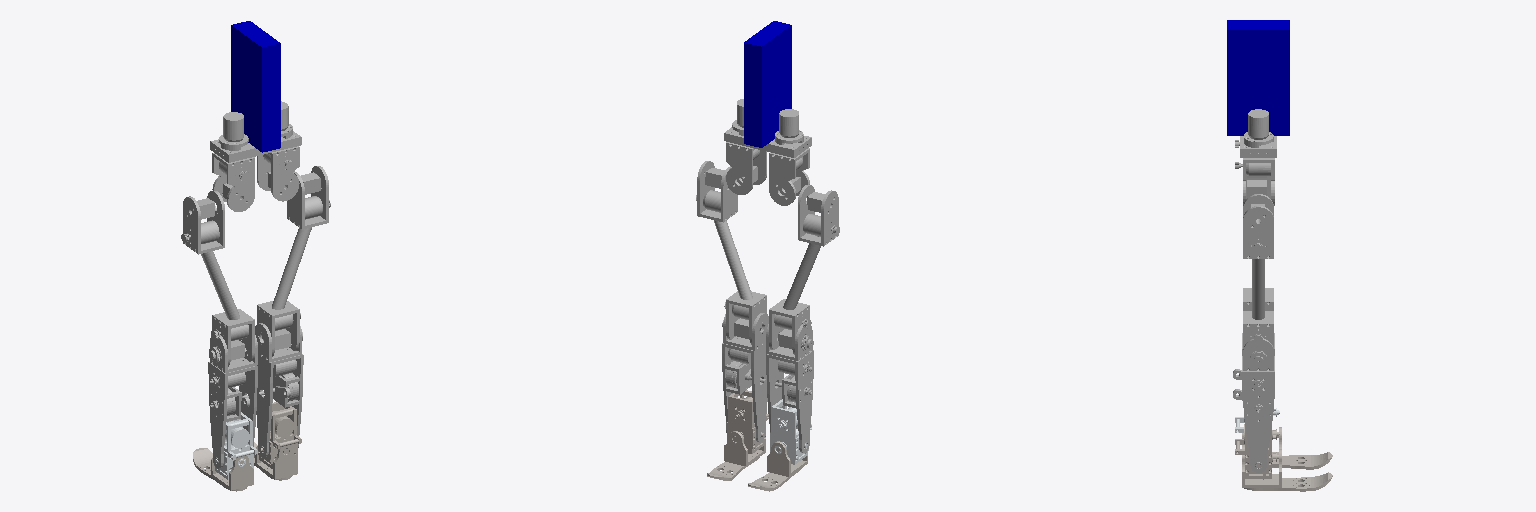
--- Render facts (derived) ---
The picture shows the robot from 3 angles, left to right: view 1: azimuth 30°, elevation 25°; view 2: azimuth 150°, elevation 25°; view 3: azimuth 270°, elevation 25°; orthographic projection.
Model huron with 28 links and 27 joints (12 revolute, 14 fixed, 1 floating), rooted at world, posed every joint at zero.
Visible links, largest first — view 1: l_hip_pitch_link, r_hip_pitch_link, l_knee_pitch_link, upper_body_link, r_knee_pitch_link, base_footprint, l_hip_yaw_link, r_hip_yaw_link, battery_link, r_ankle_pitch_link, l_ankle_pitch_link, l_ankle_roll_link (+1 smaller); view 2: l_hip_pitch_link, r_hip_pitch_link, upper_body_link, l_knee_pitch_link, r_knee_pitch_link, base_footprint, l_hip_yaw_link, r_hip_yaw_link, battery_link, r_ankle_pitch_link, l_ankle_pitch_link, r_ankle_roll_link (+1 smaller); view 3: upper_body_link, r_hip_pitch_link, r_knee_pitch_link, battery_link, base_footprint, r_ankle_roll_link, r_hip_yaw_link, l_ankle_roll_link, r_ankle_pitch_link, l_hip_pitch_link.
Link boxes in pixels (<box>): l_hip_pitch_link: <box>181,190,254,366</box>; r_hip_pitch_link: <box>257,166,330,356</box>; l_knee_pitch_link: <box>208,335,257,468</box>; upper_body_link: <box>231,21,280,119</box>; r_knee_pitch_link: <box>255,323,303,456</box>; base_footprint: <box>210,101,301,162</box>; l_hip_yaw_link: <box>212,153,254,211</box>; r_hip_yaw_link: <box>257,146,299,201</box>; battery_link: <box>231,86,280,152</box>; r_ankle_pitch_link: <box>258,402,301,468</box>; l_ankle_pitch_link: <box>214,412,257,479</box>; l_ankle_roll_link: <box>193,448,253,491</box>; l_hip_pitch_link: <box>769,185,839,354</box>; r_hip_pitch_link: <box>696,161,766,344</box>; upper_body_link: <box>744,21,791,118</box>; l_knee_pitch_link: <box>766,324,813,452</box>; r_knee_pitch_link: <box>722,313,768,442</box>; base_footprint: <box>724,99,811,157</box>; l_hip_yaw_link: <box>769,148,809,205</box>; r_hip_yaw_link: <box>726,142,766,194</box>; battery_link: <box>744,84,791,147</box>; r_ankle_pitch_link: <box>727,390,768,453</box>; l_ankle_pitch_link: <box>770,399,811,464</box>; r_ankle_roll_link: <box>707,431,765,480</box>; upper_body_link: <box>1227,20,1289,104</box>; r_hip_pitch_link: <box>1243,194,1273,367</box>; r_knee_pitch_link: <box>1233,338,1274,472</box>; battery_link: <box>1227,90,1289,135</box>; base_footprint: <box>1240,109,1276,157</box>; r_ankle_roll_link: <box>1242,449,1332,491</box>; r_hip_yaw_link: <box>1235,158,1274,205</box>; l_ankle_roll_link: <box>1242,427,1332,469</box>; r_ankle_pitch_link: <box>1235,424,1279,478</box>; l_hip_pitch_link: <box>1243,175,1273,310</box>.
Bounding box of the posed robot: 0.5066 × 0.3158 × 1.49 m (x, y, z).
Meshes: 21 distinct files referenced, 11 mesh visuals loaded (11 binary STL); not drawn: 10 (reference not matched to a file when rendering).

robot.urdf — huron:
<?xml version="1.0" ?>
<!-- =================================================================================== -->
<!-- |    This document was autogenerated by xacro from urdf/huron_cheat.xacro         | -->
<!-- |    EDITING THIS FILE BY HAND IS NOT RECOMMENDED                                 | -->
<!-- =================================================================================== -->
<robot name="huron">
  <material name="black">
    <color rgba="0.0 0.0 0.0 1.0"/>
  </material>
  <material name="blue">
    <color rgba="0.0 0.0 0.8 1.0"/>
  </material>
  <material name="green">
    <color rgba="0.0 0.8 0.0 1.0"/>
  </material>
  <material name="grey">
    <color rgba="0.75294 0.75294 0.75294 1"/>
  </material>
  <material name="orange">
    <color rgba="1.0 0.4235294117647059 0.0392156862745098 1.0"/>
  </material>
  <material name="brown">
    <color rgba="0.8705882352941177 0.8117647058823529 0.7647058823529411 1.0"/>
  </material>
  <material name="red">
    <color rgba="0.8 0.0 0.0 1.0"/>
  </material>
  <material name="white">
    <color rgba="1.0 1.0 1.0 1.0"/>
  </material>
  <!-- Right leg -->
  <!-- Right foot sensors -->
  <!-- ros_control plugin -->
  <gazebo>
    <plugin filename="libgazebo_ros_control.so" name="gazebo_ros_control">
      <robotNamespace>/huron</robotNamespace>
    </plugin>
  </gazebo>
  <gazebo>
    <plugin filename="libgazebo_ros_p3d.so" name="ground_truth">
      <frameName>map</frameName>
      <bodyName>base_link</bodyName>
      <topicName>/huron/odom</topicName>
      <updateRate>100.0</updateRate>
    </plugin>
  </gazebo>
  <!-- imu sensor -->
  <gazebo reference="imu_link">
    <gravity>true</gravity>
    <sensor name="imu_sensor" type="imu">
      <always_on>true</always_on>
      <update_rate>100</update_rate>
      <visualize>true</visualize>
      <topic>/huron/sensor/imu</topic>
      <plugin filename="libgazebo_ros_imu_sensor.so" name="imu_plugin">
        <topicName>huron/sensor/imu</topicName>
        <bodyName>imu_link</bodyName>
        <updateRateHZ>10.0</updateRateHZ>
        <gaussianNoise>0.0</gaussianNoise>
        <xyzOffset>0 0 0</xyzOffset>
        <rpyOffset>0 0 0</rpyOffset>
        <frameName>imu_link</frameName>
      </plugin>
      <pose>0 0 0 0 0 0</pose>
    </sensor>
  </gazebo>
  <gazebo reference="r_ankle_roll_joint">
    <provideFeedback>true</provideFeedback>
  </gazebo>
  <gazebo>
    <plugin filename="libgazebo_ros_ft_sensor.so" name="r1_ft_sensor">
      <updateRate>100.0</updateRate>
      <topicName>/huron/sensor/r1_ft_sensor</topicName>
      <jointName>r_ankle_roll_joint</jointName>
      <gaussianNoise>0.0</gaussianNoise>
    </plugin>
  </gazebo>
  <gazebo reference="l_ankle_roll_joint">
    <provideFeedback>true</provideFeedback>
  </gazebo>
  <gazebo>
    <plugin filename="libgazebo_ros_ft_sensor.so" name="l1_ft_sensor">
      <updateRate>100.0</updateRate>
      <topicName>/huron/sensor/l1_ft_sensor</topicName>
      <jointName>l_ankle_roll_joint</jointName>
      <gaussianNoise>0.0</gaussianNoise>
    </plugin>
  </gazebo>
  <gazebo reference="l_hip_yaw_joint">
    <preserveFixedJoint>true</preserveFixedJoint>
  </gazebo>
  <gazebo reference="l_hip_roll_joint">
    <preserveFixedJoint>true</preserveFixedJoint>
  </gazebo>
  <gazebo reference="r_hip_yaw_joint">
    <preserveFixedJoint>true</preserveFixedJoint>
  </gazebo>
  <gazebo reference="r_hip_roll_joint">
    <preserveFixedJoint>true</preserveFixedJoint>
  </gazebo>
  <!-- World -->
  <gazebo reference="world"/>
  <!-- Map -->
  <gazebo reference="map"/>
  <!-- Base -->
  <gazebo reference="base_link"/>
  <!-- IMU -->
  <gazebo reference="imu_link"/>
  <!-- Body-->
  <gazebo reference="base_footprint">
    <mu1>0.2</mu1>
    <mu2>0.2</mu2>
    <material>Gazebo/Grey</material>
    <selfCollide>false</selfCollide>
  </gazebo>
  <!-- Battery -->
  <gazebo reference="battery_link">
    <material>Gazebo/SkyBlue</material>
    <selfCollide>false</selfCollide>
  </gazebo>
  <!-- Upper body visualization -->
  <gazebo reference="upper_body_link">
    <material>Gazebo/SkyBlue</material>
    <selfCollide>false</selfCollide>
  </gazebo>
  <!-- Left Leg -->
  <gazebo reference="l_hip_yaw_link">
    <mu1>0.2</mu1>
    <mu2>0.2</mu2>
    <material>Gazebo/Grey</material>
    <selfCollide>false</selfCollide>
  </gazebo>
  <gazebo reference="l_hip_roll_link">
    <mu1>0.2</mu1>
    <mu2>0.2</mu2>
    <material>Gazebo/Grey</material>
    <selfCollide>false</selfCollide>
  </gazebo>
  <gazebo reference="l_hip_pitch_link">
    <mu1>0.2</mu1>
    <mu2>0.2</mu2>
    <material>Gazebo/Grey</material>
    <selfCollide>false</selfCollide>
  </gazebo>
  <gazebo reference="l_knee_pitch_link">
    <mu1>0.2</mu1>
    <mu2>0.2</mu2>
    <material>Gazebo/Grey</material>
    <selfCollide>false</selfCollide>
  </gazebo>
  <gazebo reference="l_ankle_pitch_link">
    <mu1>0.2</mu1>
    <mu2>0.2</mu2>
    <material>Gazebo/Grey</material>
    <selfCollide>false</selfCollide>
  </gazebo>
  <gazebo reference="l_ankle_roll_link">
    <kp>1e15</kp>
    <kd>1e13</kd>
    <mu1>0.9</mu1>
    <mu2>0.9</mu2>
    <!-- <mu>0.9</mu> -->
    <!--<maxContacts>30</maxContacts>-->
    <fdir1>0 0 1</fdir1>
    <!-- <maxVel>1.0</maxVel> -->
    <!-- <minDepth>0.001</minDepth> -->
    <material>Gazebo/Blue</material>
  </gazebo>
  <!-- Right Leg -->
  <gazebo reference="r_hip_yaw_link">
    <mu1>0.2</mu1>
    <mu2>0.2</mu2>
    <material>Gazebo/Grey</material>
    <selfCollide>false</selfCollide>
  </gazebo>
  <gazebo reference="r_hip_roll_link">
    <mu1>0.2</mu1>
    <mu2>0.2</mu2>
    <material>Gazebo/Grey</material>
    <selfCollide>false</selfCollide>
  </gazebo>
  <gazebo reference="r_hip_pitch_link">
    <mu1>0.2</mu1>
    <mu2>0.2</mu2>
    <material>Gazebo/Grey</material>
    <selfCollide>false</selfCollide>
  </gazebo>
  <gazebo reference="r_knee_pitch_link">
    <mu1>0.2</mu1>
    <mu2>0.2</mu2>
    <material>Gazebo/Grey</material>
    <selfCollide>false</selfCollide>
  </gazebo>
  <gazebo reference="r_ankle_pitch_link">
    <mu1>0.2</mu1>
    <mu2>0.2</mu2>
    <material>Gazebo/Grey</material>
    <selfCollide>false</selfCollide>
  </gazebo>
  <gazebo reference="r_ankle_roll_link">
    <kp>1e15</kp>
    <kd>1e13</kd>
    <mu1>0.9</mu1>
    <mu2>0.9</mu2>
    <!-- <mu>0.9</mu> -->
    <!--<maxContacts>30</maxContacts>-->
    <fdir1>0 0 1</fdir1>
    <!--  <maxVel>1.0</maxVel>  -->
    <!-- <minDepth>0.0001</minDepth> -->
    <material>Gazebo/Blue</material>
  </gazebo>
  <!-- Used for fixing robot -->
  <!--<link name="world"></link> 
    <joint name="world_fixed" type="fixed">
        <origin xyz="0 0 0.764" rpy="0 0 0"/>
        <parent link="world"/>
        <child link="base_link"/>
    </joint> -->
  <link name="world"/>
  <!-- floating link -->
  <!-- <xacro:huron_floating parent="world" child="base"/> -->
  <joint name="world_fixed" type="floating">
    <origin rpy="0 0 0" xyz="0 0 0"/>
    <parent link="world"/>
    <child link="base"/>
  </joint>
  <link name="base"/>
  <joint name="base_fixed" type="fixed">
    <origin rpy="0 0 0" xyz="0 0 0"/>
    <parent link="base"/>
    <child link="base_footprint"/>
  </joint>
  <!-- base_link -->
  <link name="base_footprint">
    <visual>
      <origin rpy="0 0 0" xyz="0 0 0"/>
      <geometry>
        <mesh filename="package://huron_description/meshes/base_link.STL" scale="1 1 1"/>
      </geometry>
      <material name="grey"/>
    </visual>
    <collision>
      <origin rpy="0 0 0" xyz="0 0 0"/>
      <geometry>
        <mesh filename="package://huron_description/meshes/base_link.STL" scale="1 1 1"/>
      </geometry>
      <material name="grey"/>
    </collision>
    <inertial>
      <origin rpy="0 0 0" xyz="-1.3585E-07 5.07E-07 0.026975"/>
      <mass value="3.4072"/>
      <inertia ixx="0.00319" ixy="-1.7776E-09" ixz="-1.7316E-09" iyy="0.010531" iyz="6.4623E-09" izz="0.012315"/>
    </inertial>
  </link>
  <!-- Battery -->
  <link name="battery_link">
    <visual>
      <origin rpy="0 0 0" xyz="0 0 0"/>
      <geometry>
        <box size="0.065 0.188 0.151"/>
      </geometry>
      <material name="blue"/>
    </visual>
    <collision>
      <origin rpy="0 0 0" xyz="0 0 0"/>
      <geometry>
        <box size="0.065 0.188 0.151"/>
      </geometry>
      <material name="blue"/>
    </collision>
    <inertial>
      <origin rpy="0 0 0" xyz="0 0 0"/>
      <mass value="3.90089"/>
      <inertia ixx="0.01890143742" ixy="0" ixz="0" iyy="0.0128628597" iyz="0" izz="0.008785454428"/>
    </inertial>
  </link>
  <joint name="battery_fixed" type="fixed">
    <origin rpy="0 0 0" xyz="0 0 0.0895"/>
    <parent link="base_footprint"/>
    <child link="battery_link"/>
  </joint>
  <!-- Upper body visualization -->
  <link name="upper_body_link">
    <visual>
      <origin rpy="0 0 0" xyz="0 0 0"/>
      <geometry>
        <box size="0.065 0.188 0.25"/>
      </geometry>
      <material name="blue"/>
    </visual>
    <collision>
      <origin rpy="0 0 0" xyz="0 0 0"/>
      <geometry>
        <box size="0.065 0.188 0.25"/>
      </geometry>
      <material name="blue"/>
    </collision>
    <inertial>
      <origin rpy="0 0 0" xyz="0 0 0"/>
      <mass value="0.00001"/>
      <inertia ixx="0.000001" ixy="0" ixz="0" iyy="0.000001" iyz="0" izz="0.000001"/>
    </inertial>
  </link>
  <joint name="upper_body_fixed" type="fixed">
    <origin rpy="0 0 0" xyz="0 0 0.1505"/>
    <parent link="battery_link"/>
    <child link="upper_body_link"/>
  </joint>
  <!-- imu joint -->
  <joint name="imu_fixed" type="fixed">
    <origin rpy="0 0 0" xyz="0 0 0"/>
    <parent link="base_footprint"/>
    <child link="imu_link"/>
  </joint>
  <link name="imu_link"/>
  <!-- right hip yaw joint -->
  <joint name="r_hip_yaw_joint" type="revolute">
    <origin rpy="0 0 3.141592654" xyz="0.0775 0 -0.14512"/>
    <parent link="base_footprint"/>
    <child link="r_hip_yaw_link"/>
    <axis xyz="0 0 1"/>
    <limit effort="1000000" lower="-3.1416" upper="3.1416" velocity="3000"/>
    <dynamics damping="0.5" friction="1"/>
  </joint>
  <transmission name="r_hip_yaw_joint_tran">
    <type>transmission_interface/SimpleTransmission</type>
    <joint name="r_hip_yaw_joint">
      <hardwareInterface>hardware_interface/EffortJointInterface</hardwareInterface>
    </joint>
    <actuator name="r_hip_yaw_joint_motor">
      <hardwareInterface>EffortJointInterface</hardwareInterface>
      <mechanicalReduction>1</mechanicalReduction>
    </actuator>
  </transmission>
  <!-- right hip yaw link -->
  <link name="r_hip_yaw_link">
    <visual>
      <origin rpy="0 0 0" xyz="0 0 0"/>
      <geometry>
        <mesh filename="package://huron_description/meshes/r_hip_yaw_link.STL" scale="1 1 1"/>
      </geometry>
      <material name="grey"/>
    </visual>
    <collision>
      <origin rpy="0 0 0" xyz="0 0 0"/>
      <geometry>
        <mesh filename="package://huron_description/meshes/r_hip_yaw_link.STL" scale="1 1 1"/>
      </geometry>
      <material name="grey"/>
    </collision>
    <inertial>
      <origin rpy="0 0 0" xyz="0.00063365 0.00053469 0.063505"/>
      <mass value="1.6968"/>
      <inertia ixx="0.0022702" ixy="-2.4951E-10" ixz="6.6464E-06" iyy="0.0026746" iyz="5.1468E-09" izz="0.001238"/>
    </inertial>
  </link>
  <!-- right hip roll joint-->
  <joint name="r_hip_roll_joint" type="revolute">
    <origin rpy="1.570796327 0 0" xyz="0 0 0"/>
    <parent link="r_hip_yaw_link"/>
    <child link="r_hip_roll_link"/>
    <axis xyz="0 0 1"/>
    <limit effort="1000000" lower="-0.5236" upper="0.01" velocity="3000"/>
    <dynamics damping="0.5" friction="1"/>
  </joint>
  <transmission name="r_hip_roll_joint_tran">
    <type>transmission_interface/SimpleTransmission</type>
    <joint name="r_hip_roll_joint">
      <hardwareInterface>hardware_interface/EffortJointInterface</hardwareInterface>
    </joint>
    <actuator name="r_hip_roll_joint_motor">
      <hardwareInterface>EffortJointInterface</hardwareInterface>
      <mechanicalReduction>1</mechanicalReduction>
    </actuator>
  </transmission>
  <!-- right hip roll link -->
  <link name="r_hip_roll_link">
    <visual>
      <origin rpy="0 0 0" xyz="0 0 0"/>
      <geometry>
        <mesh filename="package://huron_description/meshes/r_hip_roll_link.STL" scale="1 1 1"/>
      </geometry>
      <material name="grey"/>
    </visual>
    <collision>
      <origin rpy="0 0 0" xyz="0 0 0"/>
      <geometry>
        <mesh filename="package://huron_description/meshes/r_hip_roll_link.STL" scale="1 1 1"/>
      </geometry>
      <material name="grey"/>
    </collision>
    <inertial>
      <origin rpy="0 0 0" xyz="-0.07196 0.0061153 -0.0005211"/>
      <mass value="1.1884"/>
      <inertia ixx="0.00098222" ixy="9.9267E-08" ixz="4.9764E-09" iyy="0.00097045" iyz="9.7285E-08" izz="0.00092365"/>
    </inertial>
  </link>
  <!-- right hip pitch joint -->
  <joint name="r_hip_pitch_joint" type="revolute">
    <origin rpy="-1.570796327 0 -1.570796327" xyz="-1.6665E-05 -0.0165 -5E-05"/>
    <parent link="r_hip_roll_link"/>
    <child link="r_hip_pitch_link"/>
    <axis xyz="0 0 1"/>
    <limit effort="1000000" lower="-1.2217" upper="1.2217" velocity="3000"/>
    <dynamics damping="0.5" friction="1"/>
  </joint>
  <transmission name="r_hip_pitch_joint_tran">
    <type>transmission_interface/SimpleTransmission</type>
    <joint name="r_hip_pitch_joint">
      <hardwareInterface>hardware_interface/EffortJointInterface</hardwareInterface>
    </joint>
    <actuator name="r_hip_pitch_joint_motor">
      <hardwareInterface>EffortJointInterface</hardwareInterface>
      <mechanicalReduction>1</mechanicalReduction>
    </actuator>
  </transmission>
  <!-- right hip pitch link -->
  <link name="r_hip_pitch_link">
    <visual>
      <origin rpy="0 0 0" xyz="0 0 0"/>
      <geometry>
        <mesh filename="package://huron_description/meshes/r_hip_pitch_link.STL" scale="1 1 1"/>
      </geometry>
      <material name="grey"/>
    </visual>
    <collision>
      <origin rpy="0 0 0" xyz="0 0 0"/>
      <geometry>
        <mesh filename="package://huron_description/meshes/r_hip_pitch_link.STL" scale="1 1 1"/>
      </geometry>
      <material name="grey"/>
    </collision>
    <inertial>
      <origin rpy="0 0 0" xyz="0.25103 -7.7295E-06 -0.053135"/>
      <mass value="4.2544"/>
      <inertia ixx="0.0034501" ixy="1.1102E-07" ixz="-0.0019797" iyy="0.010035" iyz="-4.8767E-10" izz="0.01009"/>
    </inertial>
  </link>
  <!-- right knee pitch joint -->
  <joint name="r_knee_pitch_joint" type="revolute">
    <origin rpy="0 0 0" xyz="0.49628 0 0"/>
    <parent link="r_hip_pitch_link"/>
    <child link="r_knee_pitch_link"/>
    <axis xyz="0 0 1"/>
    <limit effort="1000000" lower="-1.570796327" upper="1.570796327" velocity="3000"/>
    <dynamics damping="0.5" friction="1"/>
  </joint>
  <transmission name="r_knee_pitch_joint_tran">
    <type>transmission_interface/SimpleTransmission</type>
    <joint name="r_knee_pitch_joint">
      <hardwareInterface>hardware_interface/EffortJointInterface</hardwareInterface>
    </joint>
    <actuator name="r_knee_pitch_joint_motor">
      <hardwareInterface>EffortJointInterface</hardwareInterface>
      <mechanicalReduction>1</mechanicalReduction>
    </actuator>
  </transmission>
  <!-- right knee pitch link -->
  <link name="r_knee_pitch_link">
    <visual>
      <origin rpy="0 0 0" xyz="0 0 0"/>
      <geometry>
        <mesh filename="package://huron_description/meshes/r_knee_pitch_link.STL" scale="1 1 1"/>
      </geometry>
      <material name="grey"/>
    </visual>
    <collision>
      <origin rpy="0 0 0" xyz="0 0 0"/>
      <geometry>
        <mesh filename="package://huron_description/meshes/r_knee_pitch_link.STL" scale="1 1 1"/>
      </geometry>
      <material name="grey"/>
    </collision>
    <inertial>
      <origin rpy="0 0 0" xyz="0.13397 0.00066001 -0.0028723"/>
      <mass value="3.4875"/>
      <inertia ixx="0.0064814" ixy="1.2524E-05" ixz="2.7966E-05" iyy="0.019762" iyz="-1.0417E-05" izz="0.017354"/>
    </inertial>
  </link>
  <!-- right ankle pitch joint -->
  <joint name="r_ankle_pitch_joint" type="revolute">
    <origin rpy="0 0 0.0" xyz="0.37 0 0"/>
    <parent link="r_knee_pitch_link"/>
    <child link="r_ankle_pitch_link"/>
    <axis xyz="0 0 1"/>
    <limit effort="1000000" lower="-0.5236" upper="0.1745" velocity="3000"/>
    <dynamics damping="0.5" friction="1"/>
  </joint>
  <transmission name="r_ankle_pitch_joint_tran">
    <type>transmission_interface/SimpleTransmission</type>
    <joint name="r_ankle_pitch_joint">
      <hardwareInterface>hardware_interface/EffortJointInterface</hardwareInterface>
    </joint>
    <actuator name="r_ankle_pitch_joint_motor">
      <hardwareInterface>EffortJointInterface</hardwareInterface>
      <mechanicalReduction>1</mechanicalReduction>
    </actuator>
  </transmission>
  <!-- right ankle pitch link -->
  <link name="r_ankle_pitch_link">
    <visual>
      <origin rpy="0 0 0" xyz="0 0 0"/>
      <geometry>
        <mesh filename="package://huron_description/meshes/r_ankle_pitch_link.STL" scale="1 1 1"/>
      </geometry>
      <material name="">
        <color rgba="0.77647 0.75686 0.73725 1"/>
      </material>
    </visual>
    <collision>
      <origin rpy="0 0 0" xyz="0 0 0"/>
      <geometry>
        <mesh filename="package://huron_description/meshes/r_ankle_pitch_link.STL" scale="1 1 1"/>
      </geometry>
      <material name="">
        <color rgba="0.77647 0.75686 0.73725 1"/>
      </material>
    </collision>
    <inertial>
      <origin rpy="0 0 0" xyz="-0.029808 0.001045 3.1134E-08"/>
      <mass value="2.4242"/>
      <inertia ixx="0.0025143" ixy="-0.00025651" ixz="1.1633E-12" iyy="0.0045125" iyz="6.7197E-10" izz="0.0049235"/>
    </inertial>
  </link>
  <!-- right ankle roll joint -->
  <joint name="r_ankle_roll_joint" type="revolute">
    <origin rpy="1.570796327 0 0" xyz="0 0 0"/>
    <parent link="r_ankle_pitch_link"/>
    <child link="r_ankle_roll_link"/>
    <axis xyz="0 0 1"/>
    <limit effort="1000000" lower="-0.3491" upper="0.3491" velocity="3000"/>
    <dynamics damping="0.5" friction="10"/>
  </joint>
  <transmission name="r_ankle_roll_joint_tran">
    <type>transmission_interface/SimpleTransmission</type>
    <joint name="r_ankle_roll_joint">
      <hardwareInterface>hardware_interface/EffortJointInterface</hardwareInterface>
    </joint>
    <actuator name="r_ankle_roll_joint_motor">
      <hardwareInterface>EffortJointInterface</hardwareInterface>
      <mechanicalReduction>1</mechanicalReduction>
    </actuator>
  </transmission>
  <!-- right ankle roll link -->
  <link name="r_ankle_roll_link">
    <visual>
      <origin rpy="0 0 0" xyz="0 0 0"/>
      <geometry>
        <mesh filename="package://huron_description/meshes/r_ankle_roll_link.STL" scale="1 1 1"/>
      </geometry>
      <material name="">
        <color rgba="0.77647 0.75686 0.73725 1"/>
      </material>
    </visual>
    <collision>
      <origin rpy="0 0 0" xyz="0 0 0"/>
      <geometry>
        <mesh filename="package://huron_description/meshes/r_ankle_roll_link.STL" scale="1 1 1"/>
      </geometry>
      <material name="">
        <color rgba="0.77647 0.75686 0.73725 1"/>
      </material>
    </collision>
    <inertial>
      <origin rpy="0 0 0" xyz="0.07353 -6.708E-05 0.063947"/>
      <mass value="1.8633"/>
      <inertia ixx="0.0086824" ixy="9.8353E-06" ixz="0.00024334" iyy="0.0084059" iyz="-0.00012379" izz="0.0013021"/>
    </inertial>
  </link>
  <!-- right ft fixed joint 1 -->
  <joint name="r1_ft_fixed" type="fixed">
    <origin rpy="0 0 1.570796327" xyz="0.0982708740959065 0.0143480673989493 0.127875866180863"/>
    <axis xyz="0 0 1"/>
    <parent link="r_ankle_roll_link"/>
    <child link="r1_foot_ft_link"/>
    <limit effort="100" lower="0" upper="0" velocity="100"/>
  </joint>
  <!-- right foot ft link 1 -->
  <link name="r1_foot_ft_link">
    <visual>
      <origin rpy=" 0 0 0" xyz="0 0 0"/>
      <geometry>
        <mesh filename="package://huron_description/meshes/r1_foot_ft_link.STL" scale="1 1 1"/>
      </geometry>
      <material name="green"/>
    </visual>
    <!-- <collision>
                <xacro:insert_mesh_r1_foot_ft_link />
            </collision>	    
	    <inertial>
		<xacro:insert_inertia_r1_foot_ft_link />
	    </inertial> -->
  </link>
  <!-- right ft fixed joint 2 -->
  <joint name="r2_ft_fixed" type="fixed">
    <origin rpy="0 0 1.570796327" xyz="0.0983344633797905 -0.0206518748353312 0.127875866180863"/>
    <axis xyz="0 0 1"/>
    <parent link="r_ankle_roll_link"/>
    <child link="r2_foot_ft_link"/>
    <limit effort="100" lower="0" upper="0" velocity="100"/>
  </joint>
  <!-- right foot ft link 2 -->
  <link name="r2_foot_ft_link">
    <visual>
      <origin rpy=" 0 0 0" xyz="0 0 0"/>
      <geometry>
        <mesh filename="package://huron_description/meshes/r2_foot_ft_link.STL" scale="1 1 1"/>
      </geometry>
      <material name="green"/>
    </visual>
    <!-- <collision>
                <xacro:insert_mesh_r2_foot_ft_link />
            </collision>	    
	    <inertial>
		<xacro:insert_inertia_r2_foot_ft_link />
	    </inertial> -->
  </link>
  <!-- right ft fixed joint 3 -->
  <joint name="r3_ft_fixed" type="fixed">
    <origin rpy="0 0 1.570796327" xyz="0.0983275192522874 -0.0168297833346846 0"/>
    <axis xyz="0 0 1"/>
    <parent link="r_ankle_roll_link"/>
    <child link="r3_foot_ft_link"/>
    <limit effort="100" lower="0" upper="0" velocity="100"/>
  </joint>
  <!-- right foot ft link 3 -->
  <link name="r3_foot_ft_link">
    <visual>
      <origin rpy=" 0 0 0" xyz="0 0 0"/>
      <geometry>
        <mesh filename="package://huron_description/meshes/r3_foot_ft_link.STL" scale="1 1 1"/>
      </geometry>
      <material name="green"/>
    </visual>
    <!-- <collision>
                <xacro:insert_mesh_r3_foot_ft_link />
            </collision>	    
	    <inertial>
		<xacro:insert_inertia_r3_foot_ft_link />
	    </inertial> -->
  </link>
  <!-- right ft fixed joint 4 -->
  <joint name="r4_ft_fixed" type="fixed">
    <origin rpy="0 0 1.570796327" xyz="0.0982666399609057 0.0166785619632585 0"/>
    <axis xyz="0 0 1"/>
    <parent link="r_ankle_roll_link"/>
    <child link="r4_foot_ft_link"/>
    <limit effort="100" lower="0" upper="0" velocity="100"/>
  </joint>
  <!-- right4 foot ft link 4 -->
  <link name="r4_foot_ft_link">
    <visual>
      <origin rpy=" 0 0 0" xyz="0 0 0"/>
      <geometry>
        <mesh filename="package://huron_description/meshes/r4_foot_ft_link.STL" scale="1 1 1"/>
      </geometry>
      <material name="green"/>
    </visual>
    <!-- <collision>
                <xacro:insert_mesh_r4_foot_ft_link />
            </collision>	    
	    <inertial>
		<xacro:insert_inertia_r4_foot_ft_link />
	    </inertial> -->
  </link>
  <!-- right ft fixed joint -->
  <joint name="rv_ft_fixed" type="fixed">
    <origin rpy="0 0 0" xyz="-0.0165 0 0.055"/>
    <axis xyz="0 0 0"/>
    <parent link="r4_foot_ft_link"/>
    <child link="r_foot_v_ft_link"/>
    <limit effort="100" lower="0" upper="0" velocity="100"/>
  </joint>
  <!-- right foot ft link -->
  <link name="r_foot_v_ft_link"/>
  <!-- left hip yaw joint -->
  <joint name="l_hip_yaw_joint" type="revolute">
    <origin rpy="0 0 0" xyz="-0.0775 0 -0.1451242"/>
    <parent link="base_footprint"/>
    <child link="l_hip_yaw_link"/>
    <axis xyz="0 0 1"/>
    <limit effort="1000000" lower="-3.1416" upper="3.1416" velocity="3000"/>
    <dynamics damping="0.5" friction="1"/>
  </joint>
  <transmission name="l_hip_yaw_joint_tran">
    <type>transmission_interface/SimpleTransmission</type>
    <joint name="l_hip_yaw_joint">
      <hardwareInterface>hardware_interface/EffortJointInterface</hardwareInterface>
    </joint>
    <actuator name="l_hip_yaw_joint_motor">
      <hardwareInterface>EffortJointInterface</hardwareInterface>
      <mechanicalReduction>1</mechanicalReduction>
    </actuator>
  </transmission>
  <!-- left hip yaw link -->
  <link name="l_hip_yaw_link">
    <visual>
      <origin rpy="0 0 0" xyz="0 0 0"/>
      <geometry>
        <mesh filename="package://huron_description/meshes/l_hip_yaw_link.STL" scale="1 1 1"/>
      </geometry>
      <material name="grey"/>
    </visual>
    <collision>
      <origin rpy="0 0 0" xyz="0 0 0"/>
      <geometry>
        <mesh filename="package://huron_description/meshes/l_hip_yaw_link.STL" scale="1 1 1"/>
      </geometry>
      <material name="grey"/>
    </collision>
    <inertial>
      <origin rpy="0 0 0" xyz="0.00063365 -0.00053469 0.063496"/>
      <mass value="1.6968"/>
      <inertia ixx="0.0022702" ixy="-2.4951E-10" ixz="6.6464E-06" iyy="0.0026746" iyz="-5.1468E-09" izz="0.001238"/>
    </inertial>
  </link>
  <!-- left hip roll joint-->
  <joint name="l_hip_roll_joint" type="revolute">
    <origin rpy="1.570796327 0 3.141592654" xyz="0 0 0"/>
    <parent link="l_hip_yaw_link"/>
    <child link="l_hip_roll_link"/>
    <axis xyz="0 0 1"/>
    <limit effort="1000000" lower="-0.01" upper="0.5236" velocity="3000"/>
    <dynamics damping="0.5" friction="1"/>
  </joint>
  <transmission name="l_hip_roll_joint_tran">
    <type>transmission_interface/SimpleTransmission</type>
    <joint name="l_hip_roll_joint">
      <hardwareInterface>hardware_interface/EffortJointInterface</hardwareInterface>
    </joint>
    <actuator name="l_hip_roll_joint_motor">
      <hardwareInterface>EffortJointInterface</hardwareInterface>
      <mechanicalReduction>1</mechanicalReduction>
    </actuator>
  </transmission>
  <!-- left hip roll link -->
  <link name="l_hip_roll_link">
    <visual>
      <origin rpy="0 0 0" xyz="0 0 0"/>
      <geometry>
        <mesh filename="package://huron_description/meshes/l_hip_roll_link.STL" scale="1 1 1"/>
      </geometry>
      <material name="grey"/>
    </visual>
    <collision>
      <origin rpy="0 0 0" xyz="0 0 0"/>
      <geometry>
        <mesh filename="package://huron_description/meshes/l_hip_roll_link.STL" scale="1 1 1"/>
      </geometry>
      <material name="grey"/>
    </collision>
    <inertial>
      <origin rpy="0 0 0" xyz="0.07196 0.0061153 -0.0005211"/>
      <mass value="1.1884"/>
      <inertia ixx="0.00098222" ixy="-9.9267E-08" ixz="4.9764E-09" iyy="0.00097045" iyz="-9.7285E-08" izz="0.00092365"/>
    </inertial>
  </link>
  <!-- left hip pitch joint -->
  <joint name="l_hip_pitch_joint" type="revolute">
    <origin rpy="-1.570796327 0 -1.570796327" xyz="1.6665E-05 -0.0165 -5E-05"/>
    <parent link="l_hip_roll_link"/>
    <child link="l_hip_pitch_link"/>
    <axis xyz="0 0 1"/>
    <limit effort="1000000" lower="-1.2217" upper="1.2217" velocity="3000"/>
    <dynamics damping="0.5" friction="1"/>
  </joint>
  <transmission name="l_hip_pitch_joint_tran">
    <type>transmission_interface/SimpleTransmission</type>
    <joint name="l_hip_pitch_joint">
      <hardwareInterface>hardware_interface/EffortJointInterface</hardwareInterface>
    </joint>
    <actuator name="l_hip_pitch_joint_motor">
      <hardwareInterface>EffortJointInterface</hardwareInterface>
      <mechanicalReduction>1</mechanicalReduction>
    </actuator>
  </transmission>
  <!-- left hip pitch link -->
  <link name="l_hip_pitch_link">
    <visual>
      <origin rpy="0 0 0" xyz="0 0 0"/>
      <geometry>
        <mesh filename="package://huron_description/meshes/l_hip_pitch_link.STL" scale="1 1 1"/>
      </geometry>
      <material name="grey"/>
    </visual>
    <collision>
      <origin rpy="0 0 0" xyz="0 0 0"/>
      <geometry>
        <mesh filename="package://huron_description/meshes/l_hip_pitch_link.STL" scale="1 1 1"/>
      </geometry>
      <material name="grey"/>
    </collision>
    <inertial>
      <origin rpy="0 0 0" xyz="0.25103 -7.7295E-06 0.053135"/>
      <mass value="4.2544"/>
      <inertia ixx="0.0034501" ixy="-1.1102E-07" ixz="0.0019797" iyy="0.010035" iyz="-4.8767E-10" izz="0.01009"/>
    </inertial>
  </link>
  <!-- left knee pitch joint -->
  <joint name="l_knee_pitch_joint" type="revolute">
    <origin rpy="0 0 0" xyz="0.49628 0 0"/>
    <parent link="l_hip_pitch_link"/>
    <child link="l_knee_pitch_link"/>
    <axis xyz="0 0 1"/>
    <limit effort="1000000" lower="-1.570796327" upper="1.570796327" velocity="3000"/>
    <dynamics damping="0.5" friction="1"/>
  </joint>
  <transmission name="l_knee_pitch_joint_tran">
    <type>transmission_interface/SimpleTransmission</type>
    <joint name="l_knee_pitch_joint">
      <hardwareInterface>hardware_interface/EffortJointInterface</hardwareInterface>
    </joint>
    <actuator name="l_knee_pitch_joint_motor">
      <hardwareInterface>EffortJointInterface</hardwareInterface>
      <mechanicalReduction>1</mechanicalReduction>
    </actuator>
  </transmission>
  <!-- left knee pitch link -->
  <link name="l_knee_pitch_link">
    <visual>
      <origin rpy="0 0 0" xyz="0 0 0"/>
      <geometry>
        <mesh filename="package://huron_description/meshes/l_knee_pitch_link.STL" scale="1 1 1"/>
      </geometry>
      <material name="grey"/>
    </visual>
    <collision>
      <origin rpy="0 0 0" xyz="0 0 0"/>
      <geometry>
        <mesh filename="package://huron_description/meshes/l_knee_pitch_link.STL" scale="1 1 1"/>
      </geometry>
      <material name="grey"/>
    </collision>
    <inertial>
      <origin rpy="0 0 0" xyz="0.13397 0.00066001 0.0028723"/>
      <mass value="3.4875"/>
      <inertia ixx="0.0064814" ixy="1.2524E-05" ixz="-2.7966E-05" iyy="0.019762" iyz="1.0417E-05" izz="0.017354"/>
    </inertial>
  </link>
  <!-- left ankle pitch joint -->
  <joint name="l_ankle_pitch_joint" type="revolute">
    <origin rpy="0 0 0.0" xyz="0.37 0 0"/>
    <parent link="l_knee_pitch_link"/>
    <child link="l_ankle_pitch_link"/>
    <axis xyz="0 0 1"/>
    <limit effort="1000000" lower="-0.5236" upper="0.1745" velocity="3000"/>
    <dynamics damping="0.5" friction="1"/>
  </joint>
  <transmission name="l_ankle_pitch_joint_tran">
    <type>transmission_interface/SimpleTransmission</type>
    <joint name="l_ankle_pitch_joint">
      <hardwareInterface>hardware_interface/EffortJointInterface</hardwareInterface>
    </joint>
    <actuator name="l_ankle_pitch_joint_motor">
      <hardwareInterface>EffortJointInterface</hardwareInterface>
      <mechanicalReduction>1</mechanicalReduction>
    </actuator>
  </transmission>
  <!-- left ankle pitch link -->
  <link name="l_ankle_pitch_link">
    <visual>
      <origin rpy="0 0 0" xyz="0 0 0"/>
      <geometry>
        <mesh filename="package://huron_description/meshes/l_ankle_pitch_link.STL" scale="1 1 1"/>
      </geometry>
      <material name="">
        <color rgba="0.89804 0.91765 0.92941 1"/>
      </material>
    </visual>
    <collision>
      <origin rpy="0 0 0" xyz="0 0 0"/>
      <geometry>
        <mesh filename="package://huron_description/meshes/l_ankle_pitch_link.STL" scale="1 1 1"/>
      </geometry>
      <material name="">
        <color rgba="0.89804 0.91765 0.92941 1"/>
      </material>
    </collision>
    <inertial>
      <origin rpy="0 0 0" xyz="-0.029808 0.001045 3.1134E-08"/>
      <mass value="2.4242"/>
      <inertia ixx="0.0025143" ixy="-0.00025651" ixz="1.1633E-12" iyy="0.0045125" iyz="6.7197E-10" izz="0.0049235"/>
    </inertial>
  </link>
  <!-- left ankle roll pitch -->
  <joint name="l_ankle_roll_joint" type="revolute">
    <origin rpy="1.570796327 0 0" xyz="0 0 0"/>
    <parent link="l_ankle_pitch_link"/>
    <child link="l_ankle_roll_link"/>
    <axis xyz="0 0 1"/>
    <limit effort="1000000" lower="-0.3491" upper="0.3491" velocity="3000"/>
    <dynamics damping="0.5" friction="10"/>
  </joint>
  <transmission name="l_ankle_roll_joint_tran">
    <type>transmission_interface/SimpleTransmission</type>
    <joint name="l_ankle_roll_joint">
      <hardwareInterface>hardware_interface/EffortJointInterface</hardwareInterface>
    </joint>
    <actuator name="l_ankle_roll_joint_motor">
      <hardwareInterface>EffortJointInterface</hardwareInterface>
      <mechanicalReduction>1</mechanicalReduction>
    </actuator>
  </transmission>
  <!-- left ankle roll link -->
  <link name="l_ankle_roll_link">
    <visual>
      <origin rpy="0 0 0" xyz="0 0 0"/>
      <geometry>
        <mesh filename="package://huron_description/meshes/l_ankle_roll_link.STL" scale="1 1 1"/>
      </geometry>
      <material name="">
        <color rgba="0.77647 0.75686 0.73725 1"/>
      </material>
    </visual>
    <collision>
      <origin rpy="0 0 0" xyz="0 0 0"/>
      <geometry>
        <mesh filename="package://huron_description/meshes/l_ankle_roll_link.STL" scale="1 1 1"/>
      </geometry>
      <material name="">
        <color rgba="0.77647 0.75686 0.73725 1"/>
      </material>
    </collision>
    <inertial>
      <origin rpy="0 0 0" xyz="0.07353 6.708E-05 0.063947"/>
      <mass value="1.8633"/>
      <inertia ixx="0.0086824" ixy="-9.8353E-06" ixz="0.00024334" iyy="0.0084059" iyz="0.00012379" izz="0.0013021"/>
    </inertial>
  </link>
  <!-- left ft fixed joint 1 -->
  <joint name="l1_ft_fixed" type="fixed">
    <origin rpy="0 0 1.570796327" xyz="0.0983282135717449 0.0206816111121677 0.127875866180865"/>
    <axis xyz="0 0 1"/>
    <parent link="l_ankle_roll_link"/>
    <child link="l1_foot_ft_link"/>
    <limit effort="100" lower="0" upper="0" velocity="100"/>
  </joint>
  <!-- left foot ft link 1 -->
  <link name="l1_foot_ft_link">
    <visual>
      <origin rpy=" 0 0 0" xyz="0 0 0"/>
      <geometry>
        <mesh filename="package://huron_description/meshes/l1_foot_ft_link.STL" scale="1 1 1"/>
      </geometry>
      <material name="green"/>
    </visual>
    <!-- <collision>
                <xacro:insert_mesh_l1_foot_ft_link />
            </collision>	    
	    <inertial>
		<xacro:insert_inertia_l1_foot_ft_link />
	    </inertial> -->
  </link>
  <!-- left ft fixed joint 2 -->
  <joint name="l2_ft_fixed" type="fixed">
    <origin rpy="0 0 1.570796327" xyz="0.0982752085863122 -0.0143183487516882 0.127875866180865"/>
    <axis xyz="0 0 1"/>
    <parent link="l_ankle_roll_link"/>
    <child link="l2_foot_ft_link"/>
    <limit effort="100" lower="0" upper="0" velocity="100"/>
  </joint>
  <!-- left foot ft link 2 -->
  <link name="l2_foot_ft_link">
    <visual>
      <origin rpy=" 0 0 0" xyz="0 0 0"/>
      <geometry>
        <mesh filename="package://huron_description/meshes/l2_foot_ft_link.STL" scale="1 1 1"/>
      </geometry>
      <material name="green"/>
    </visual>
    <!-- <collision>
                <xacro:insert_mesh_l2_foot_ft_link />
            </collision>	    
	    <inertial>
		<xacro:insert_inertia_l2_foot_ft_link />
	    </inertial> -->
  </link>
  <!-- left ft fixed joint 3 -->
  <joint name="l3_ft_fixed" type="fixed">
    <origin rpy="0 0 1.570796327" xyz="0.0982716792139032 -0.0166488444898757 0"/>
    <axis xyz="0 0 1"/>
    <parent link="l_ankle_roll_link"/>
    <child link="l3_foot_ft_link"/>
    <limit effort="100" lower="0" upper="0" velocity="100"/>
  </joint>
  <!-- left foot ft link 3 -->
  <link name="l3_foot_ft_link">
    <visual>
      <origin rpy=" 0 0 0" xyz="0 0 0"/>
      <geometry>
        <mesh filename="package://huron_description/meshes/l3_foot_ft_link.STL" scale="1 1 1"/>
      </geometry>
      <material name="green"/>
    </visual>
    <!-- <collision>
                <xacro:insert_mesh_l3_foot_ft_link />
            </collision>	    
	    <inertial>
		<xacro:insert_inertia_l3_foot_ft_link />
	    </inertial> -->
  </link>
  <!-- left ft fixed joint 4 -->
  <joint name="l4_ft_fixed" type="fixed">
    <origin rpy="0 0 1.570796327" xyz="0.0983224252792114 0.0168595176863209 0"/>
    <axis xyz="0 0 1"/>
    <parent link="l_ankle_roll_link"/>
    <child link="l4_foot_ft_link"/>
    <limit effort="100" lower="0" upper="0" velocity="100"/>
  </joint>
  <!-- left foot ft link 4 -->
  <link name="l4_foot_ft_link">
    <visual>
      <origin rpy=" 0 0 0" xyz="0 0 0"/>
      <geometry>
        <mesh filename="package://huron_description/meshes/l4_foot_ft_link.STL" scale="1 1 1"/>
      </geometry>
      <material name="green"/>
    </visual>
    <!-- <collision>
                <xacro:insert_mesh_l4_foot_ft_link />
            </collision>	    
	    <inertial>
		<xacro:insert_inertia_l4_foot_ft_link />
	    </inertial> -->
  </link>
  <!-- left ft fixed joint -->
  <joint name="lv_ft_fixed" type="fixed">
    <origin rpy="0 0 0" xyz="-0.0165 0 0.055"/>
    <parent link="l4_foot_ft_link"/>
    <child link="l_foot_v_ft_link"/>
  </joint>
  <!-- left foot ft link -->
  <link name="l_foot_v_ft_link"/>
</robot>
